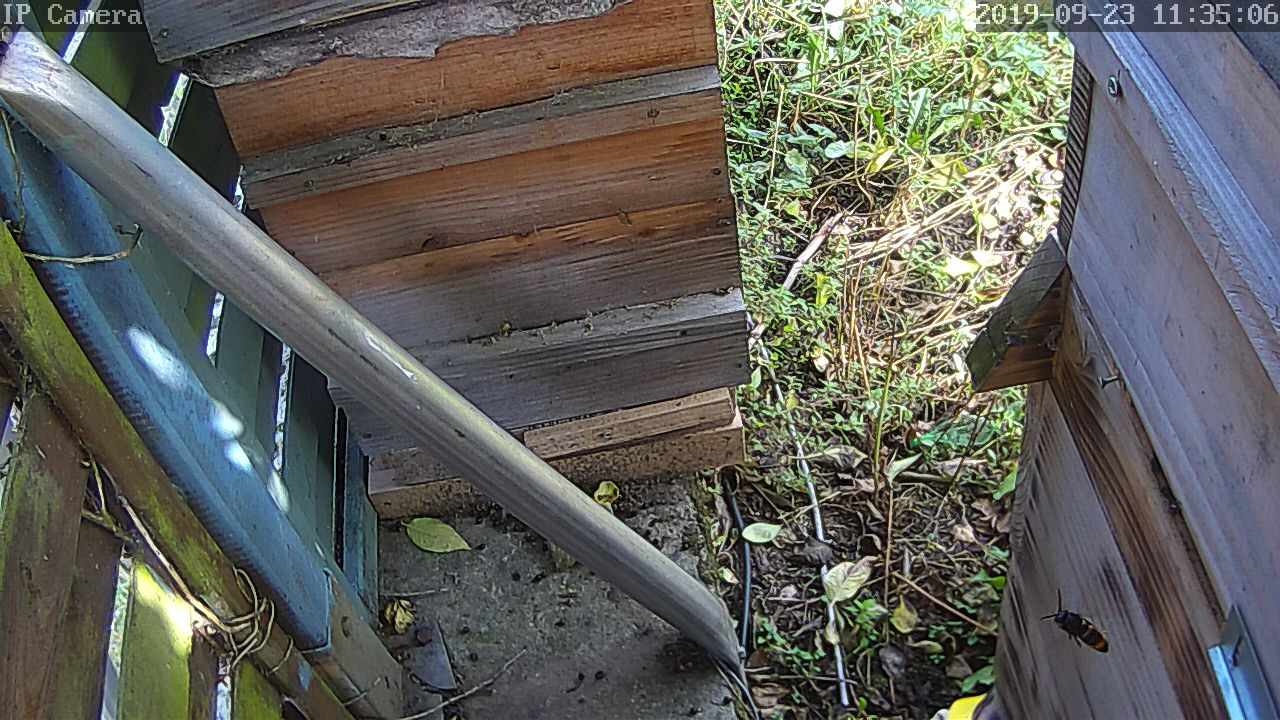hornet: (1047, 598, 1122, 661)
